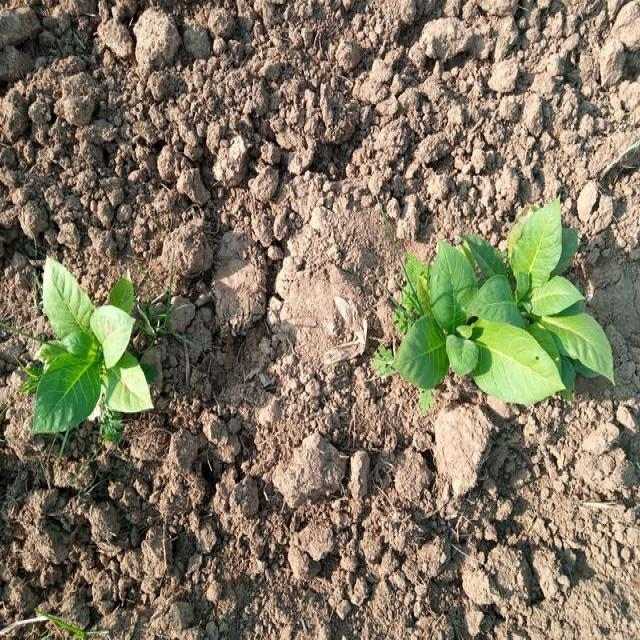crop: (388, 196, 622, 412), (16, 260, 160, 436)
